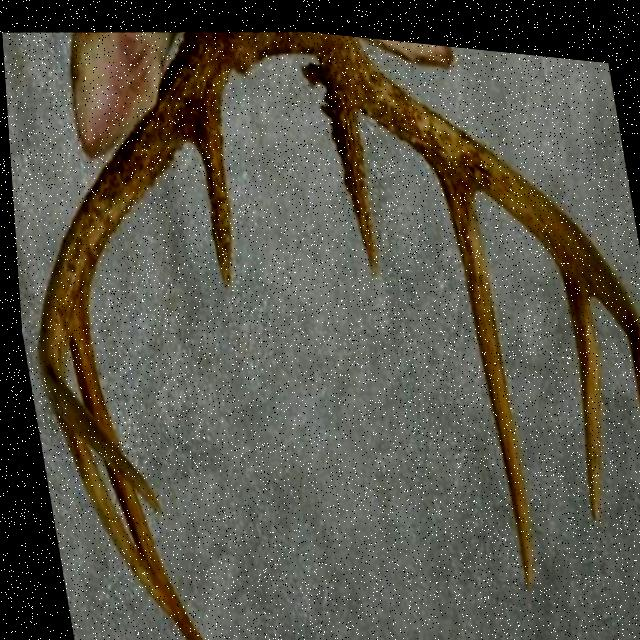L-F: (319, 27, 640, 406)
L-G1: (318, 78, 376, 268)
L-G2: (435, 163, 526, 579)
L-G3: (555, 254, 597, 509)
R-F: (33, 27, 234, 508)
R-G1: (193, 111, 230, 287)
